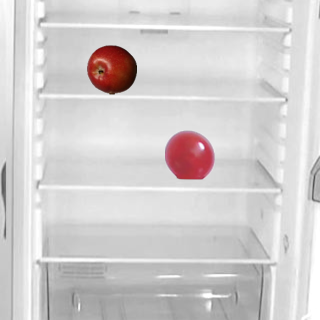Apple Braeburn: (86, 44, 136, 94)
Redcurrant: (164, 129, 214, 179)
